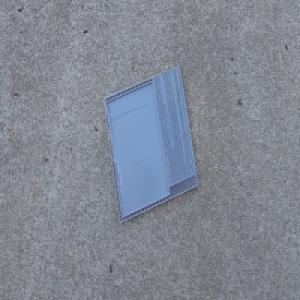PlasticPart: (103, 65, 198, 225)
